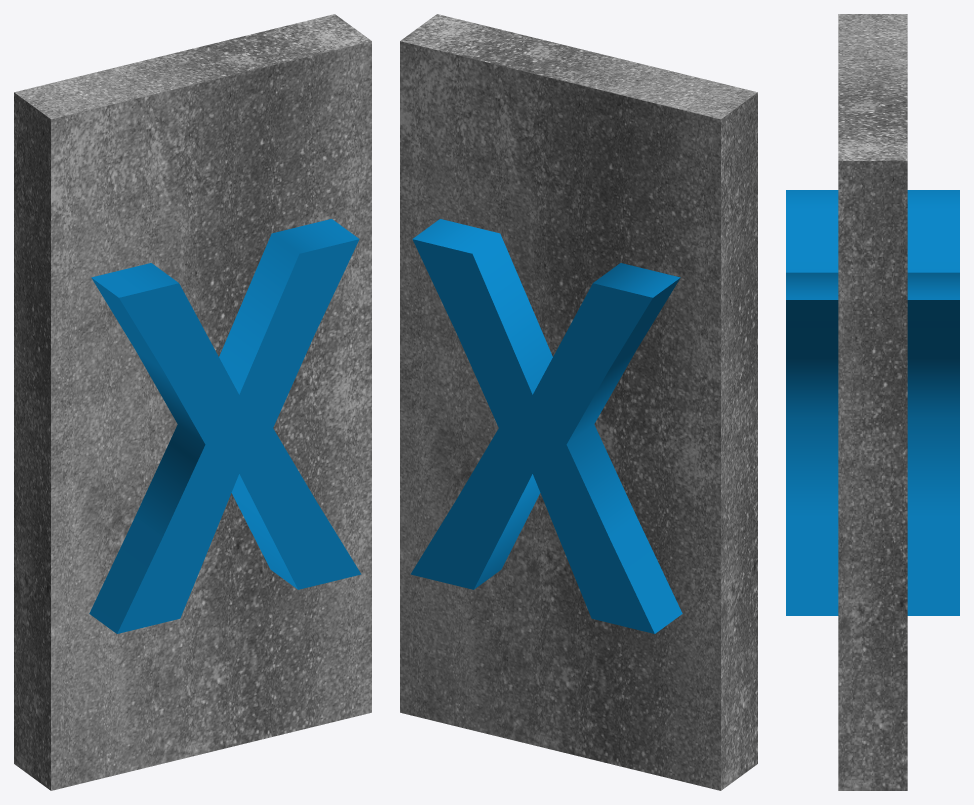
File: stone_X.fbx
3 views of the same model, side by side, from view 1: azimuth 30°, elevation 25°; view 2: azimuth 150°, elevation 25°; view 3: azimuth 270°, elevation 25° (orthographic). The views are drawn at different scales.
Visible parts, largest first — view 1: Box001, Box002; view 2: Box001, Box002; view 3: Box001, Box002.
Boxes of the visible parts, <box> form: Box001: <box>14,14,371,790</box>; Box002: <box>89,219,361,633</box>; Box001: <box>400,14,757,790</box>; Box002: <box>410,219,682,633</box>; Box001: <box>838,14,907,790</box>; Box002: <box>786,190,959,615</box>.
Size of the model in its own units: 78.74 by 39.37 by 157.
2 materials, 2 textured.
